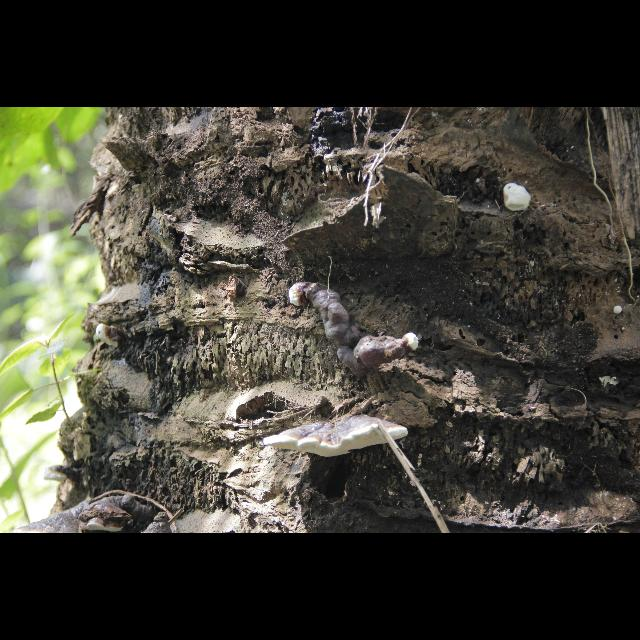ganoderma: (310, 284, 403, 380), (264, 414, 408, 459), (80, 494, 154, 534), (13, 498, 93, 534), (44, 466, 83, 484)
primordium: (502, 202, 531, 230), (97, 325, 127, 350), (290, 283, 310, 308), (404, 333, 421, 354), (614, 307, 623, 316)
